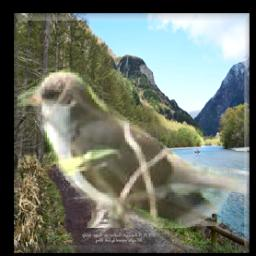Cuckoo: (17, 68, 246, 228)
